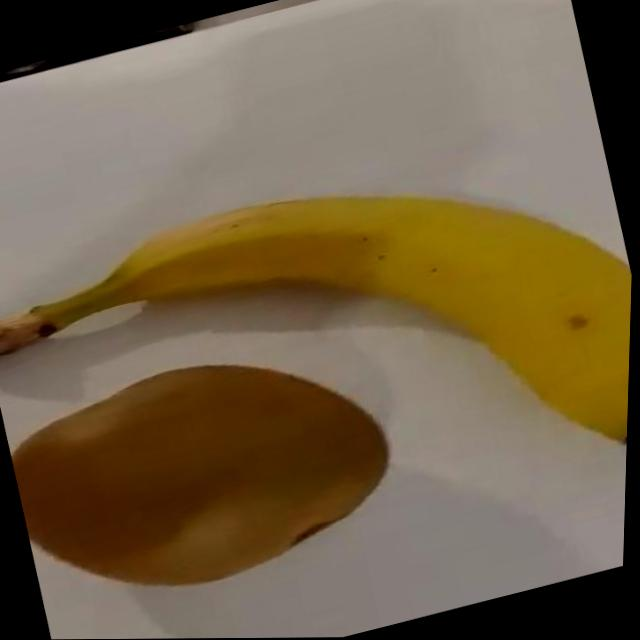Banana: (0, 115, 637, 595)
